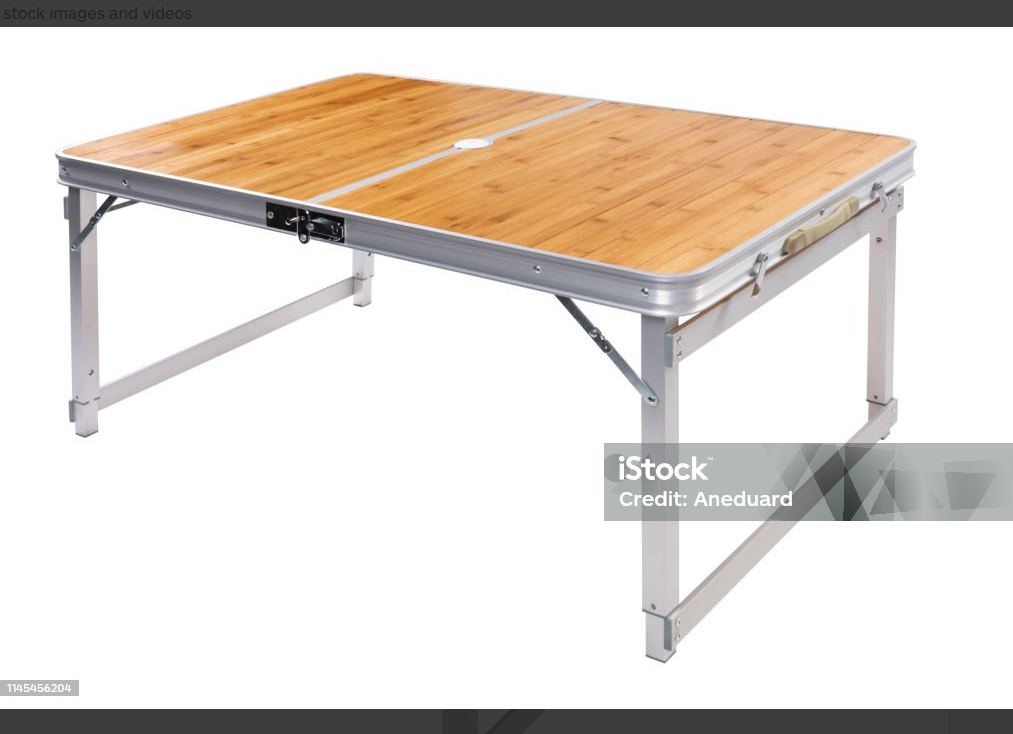obstacle: (42, 62, 915, 669)
